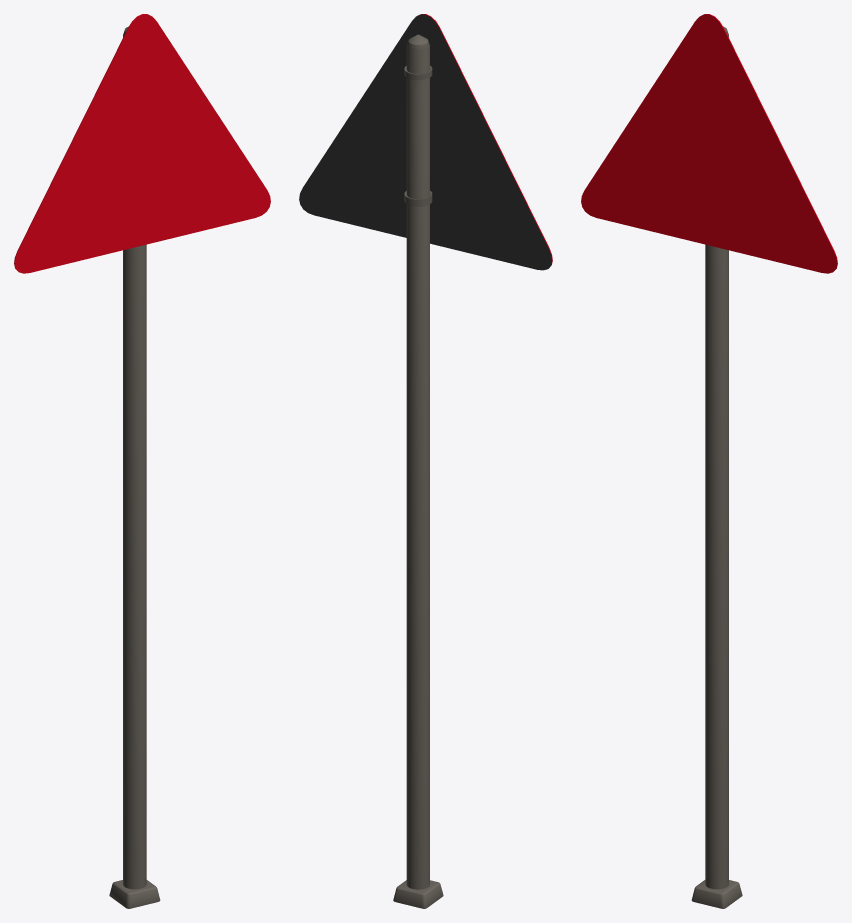
File: street_sign4.fbx
3 renders of one model, left to right at view 1: azimuth 30°, elevation 25°; view 2: azimuth 150°, elevation 25°; view 3: azimuth 330°, elevation 25°, orthographic.
Visible parts, largest first — view 1: Sign_1.001; view 2: Sign_1.001; view 3: Sign_1.001.
Part boxes in pixels (<box>): Sign_1.001: <box>14,14,270,908</box>; Sign_1.001: <box>299,14,552,908</box>; Sign_1.001: <box>581,14,837,908</box>.
Size of the model in its own units: 103 by 342 by 13.67.
